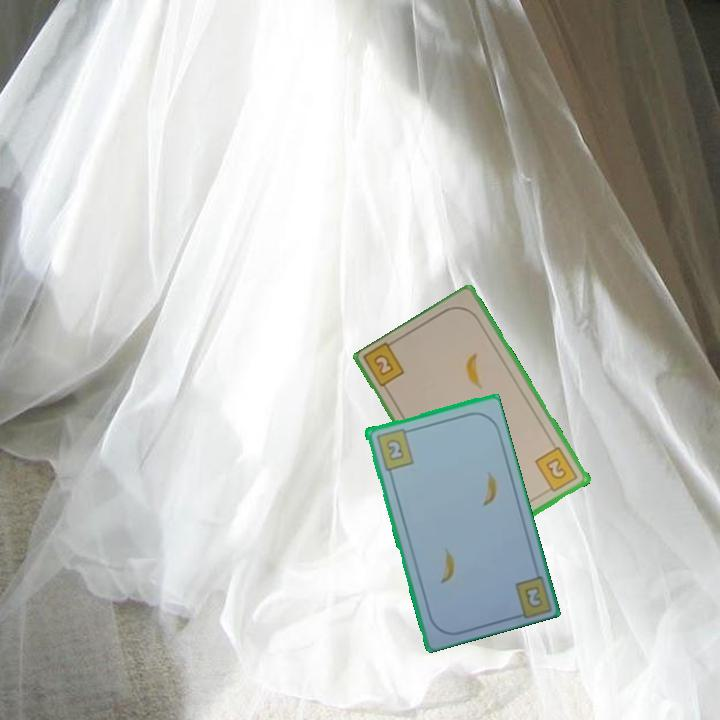2b: (532, 444, 581, 496), (372, 425, 416, 473), (370, 351, 397, 379), (521, 582, 545, 611)
